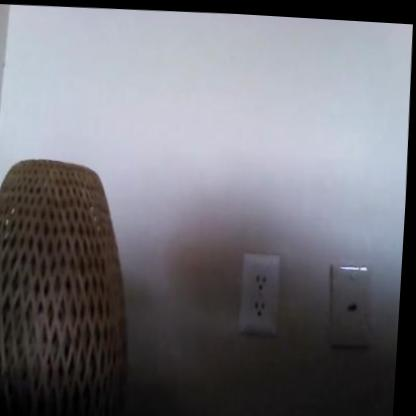OUTLET: (236, 251, 284, 336)
